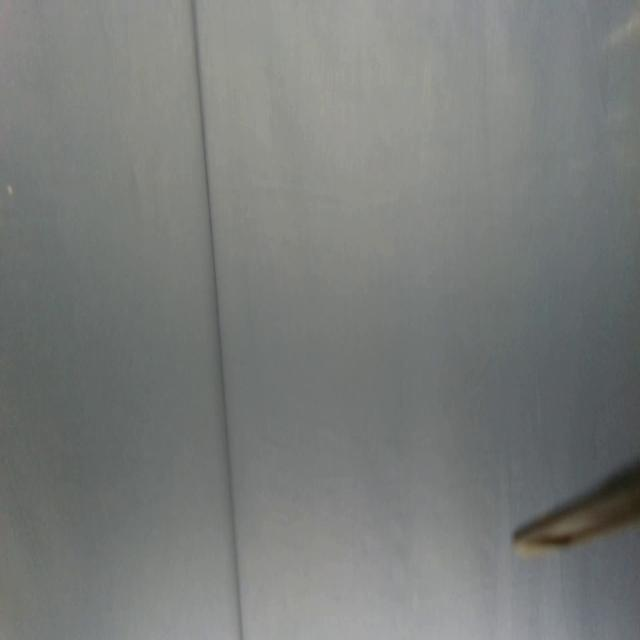crease: (191, 1, 243, 637)
hole: (7, 183, 14, 196)
